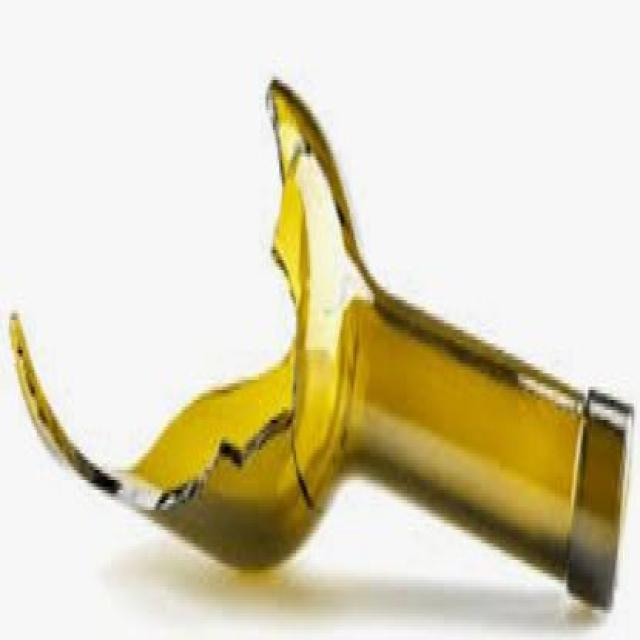electronic: (8, 78, 636, 628)
